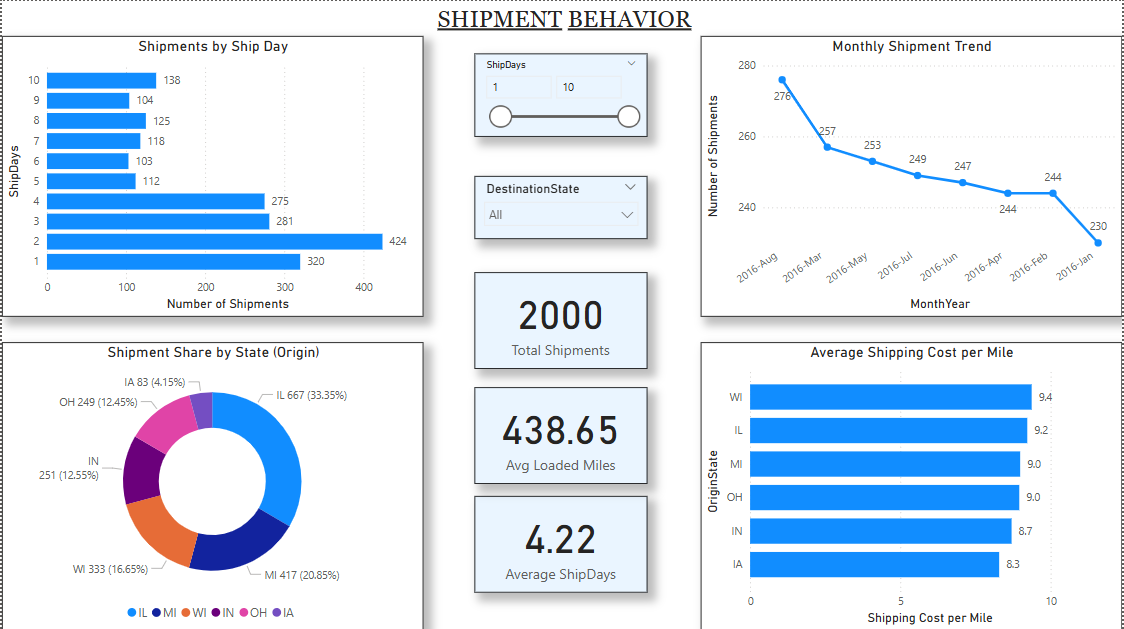

The page's visual inventory and layout, read from the dashboard file:
{"tool":"powerbi","page":{"name":"Shipping Cost Efficiency Analysis","canvas":[1280,720],"ordinal":2},"visuals":[{"type":"textbox","box":[481.4,0,316.3,44.2],"z":0},{"type":"barChart","title":"Shipments by Ship Day","fields":{"Category":["Sheet1.ShipDays"],"Y":["CountNonNull(Sheet1.TripID)"]},"box":[0,39.5,481.4,320.9],"z":1000},{"type":"lineChart","title":"Monthly Shipment Trend","fields":{"Y":["CountNonNull(Sheet1.TripID)"],"Category":["Sheet1.MonthYear"]},"box":[798.8,39.5,481.4,320.9],"z":2000},{"type":"donutChart","title":"Shipment Share by State (Origin)","fields":{"Y":["CountNonNull(Sheet1.TripID)"],"Category":["Sheet1.OriginState"]},"box":[0,390.7,481.4,329.1],"z":3000},{"type":"clusteredBarChart","title":"Average Shipping Cost per Mile","fields":{"Category":["Sheet1.OriginState"],"Y":["Efficiency_By_State.Avg Shipping Cost per Mile"]},"box":[798.8,390.7,481.4,329.1],"z":4000},{"type":"card","fields":{"Values":["Sheet1.TotalShipments"]},"box":[540.7,309.3,197.7,110.5],"z":5000},{"type":"card","fields":{"Values":["Efficiency_By_State.Average ShipDays"]},"box":[540.7,566.3,197.7,110.5],"z":6000},{"type":"card","fields":{"Values":["Sheet1.AvgLoadedMiles"]},"box":[540.7,441.9,197.7,110.5],"z":7000},{"type":"slicer","fields":{"Values":["Sheet1.ShipDays"]},"box":[540.7,60.5,197.7,95.3],"z":8000},{"type":"slicer","fields":{"Values":["Sheet1.DestinationState"]},"box":[540.7,200,197.7,72.1],"z":9000}]}

Visuals, with their boxes in screenshot pixels (x1, y1, x2, y2), scaled from the page's 1280x720 canvas onto the 1124x629 screenshot:
textbox: 423:0:700:39
"Shipments by Ship Day" barChart: 0:35:423:315
"Monthly Shipment Trend" lineChart: 701:35:1123:315
"Shipment Share by State (Origin)" donutChart: 0:341:423:628
"Average Shipping Cost per Mile" clusteredBarChart: 701:341:1123:628
card - Sheet1.TotalShipments: 475:270:648:367
card - Efficiency_By_State.Average ShipDays: 475:495:648:591
card - Sheet1.AvgLoadedMiles: 475:386:648:483
slicer - Sheet1.ShipDays: 475:53:648:136
slicer - Sheet1.DestinationState: 475:175:648:238
